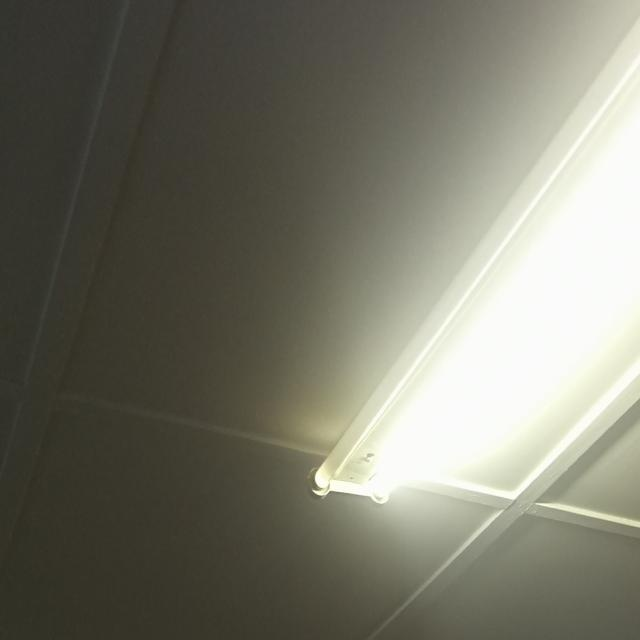fluorescent tube: (293, 0, 640, 529)
